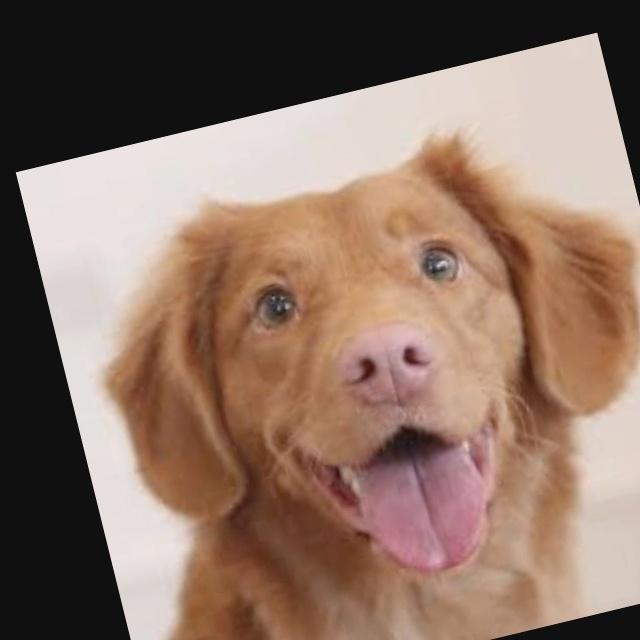dog: (26, 41, 640, 640), (16, 173, 160, 640)
